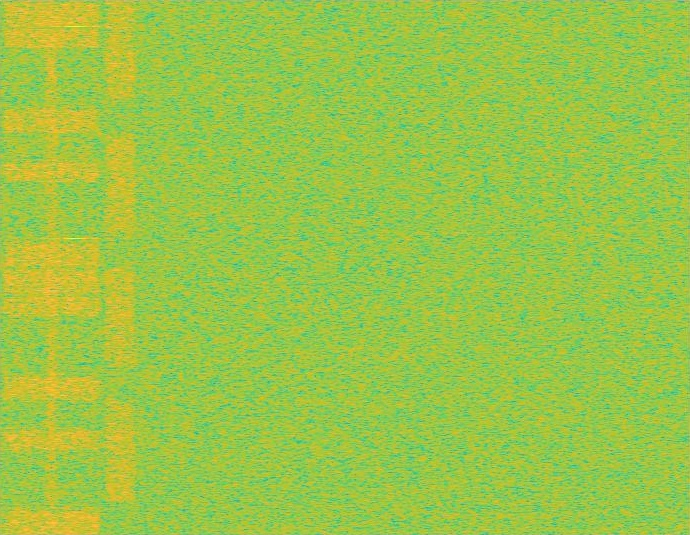5G: (104, 0, 138, 534)
DSSS: (45, 0, 59, 534)
LTE: (0, 0, 104, 534)
Radar: (69, 0, 82, 534)
